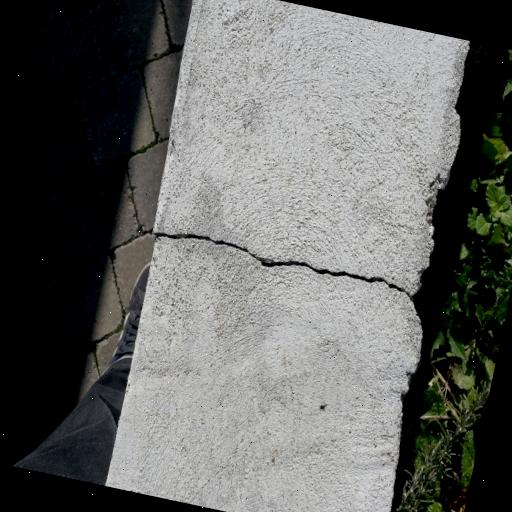spalling: (155, 222, 412, 306)
